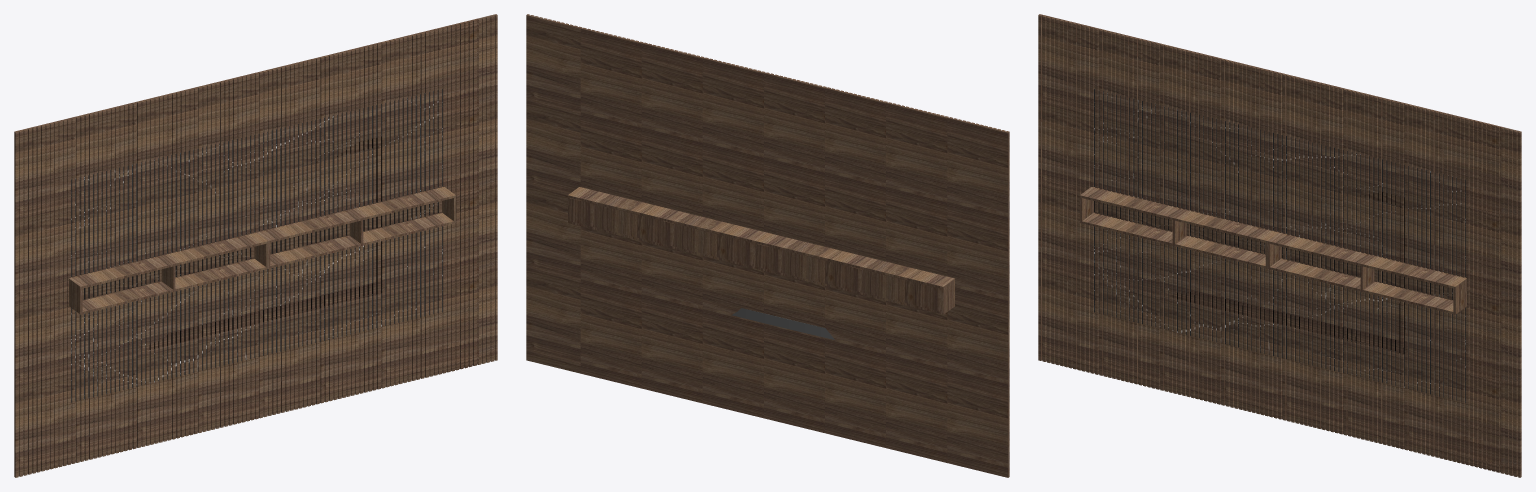
The model's file is TV stand_1_processed.glb.
3 views of the same model, side by side, from view 1: azimuth 30°, elevation 25°; view 2: azimuth 150°, elevation 25°; view 3: azimuth 330°, elevation 25° (orthographic).
Parts seen in each view (by area): view 1: Material2 (×5); view 2: Material2 (×3); view 3: Material2 (×5).
Part boxes in pixels (x1,y1,x2,y2): Material2 (×5): (14, 14, 497, 477); Material2 (×3): (526, 14, 1009, 477); Material2 (×5): (1038, 14, 1521, 477).
Size of the model in its own units: 5843877 by 3998883 by 515880.
6 materials, 2 textured.
